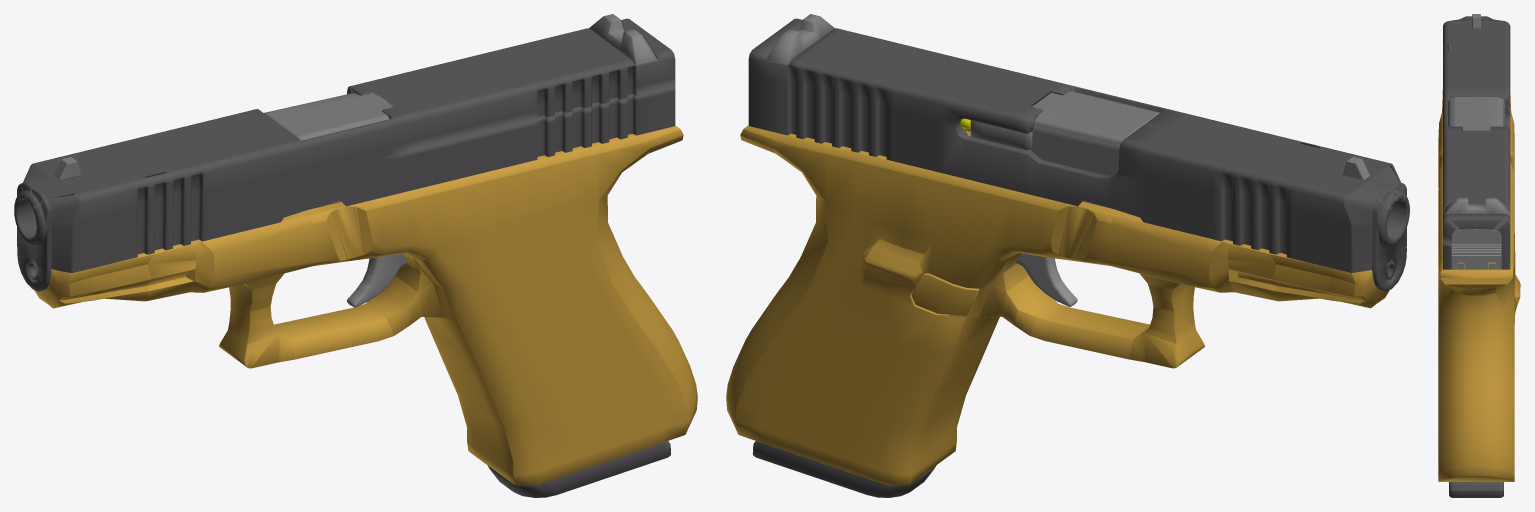
The picture shows the model from 3 angles, left to right: view 1: azimuth 30°, elevation 25°; view 2: azimuth 150°, elevation 25°; view 3: azimuth 270°, elevation 25°; orthographic projection. The views are drawn at different scales.
Parts seen in each view (by area): view 1: gun; view 2: gun; view 3: gun.
Part boxes in pixels (x1,y1,x2,y2): gun: (14, 14, 697, 497); gun: (726, 14, 1409, 497); gun: (1438, 14, 1520, 497).
Size of the model in its own units: 0.1965 by 0.1238 by 0.0311.
